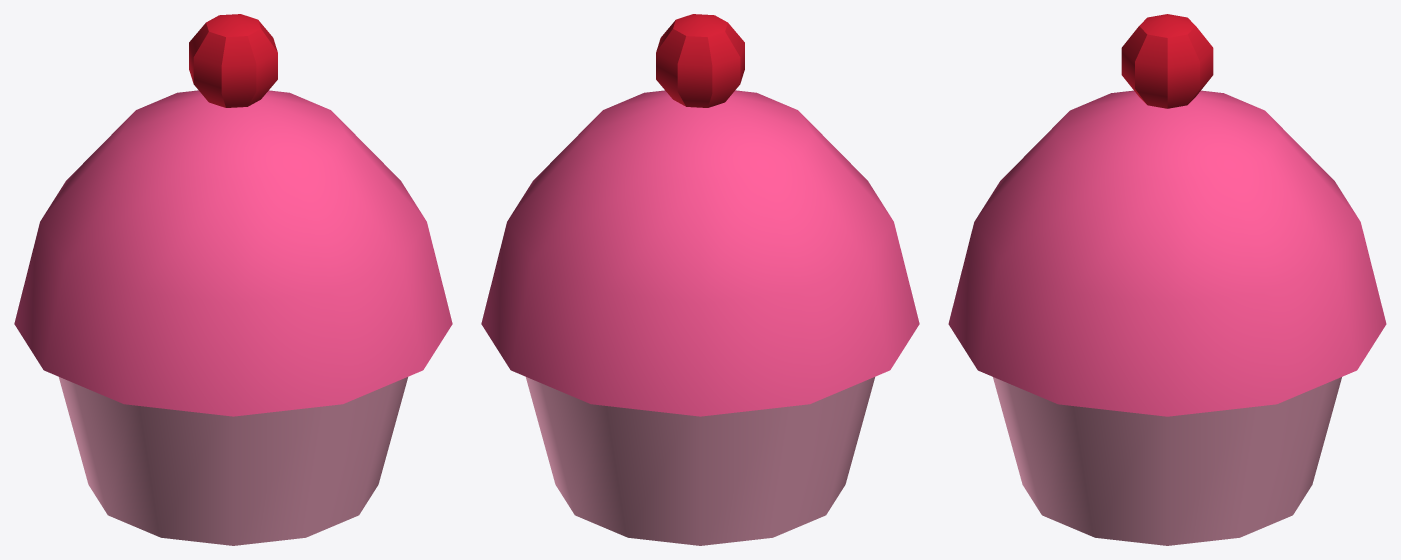
File: RailCandy.fbx
The picture shows the model from 3 angles, left to right: view 1: azimuth 30°, elevation 25°; view 2: azimuth 150°, elevation 25°; view 3: azimuth 270°, elevation 25°; orthographic projection.
Visible parts, largest first — view 1: RailCandy; view 2: RailCandy; view 3: RailCandy.
Boxes of the visible parts, x1=… form: RailCandy: x1=14, y1=14, x2=452, y2=545; RailCandy: x1=481, y1=14, x2=919, y2=545; RailCandy: x1=948, y1=14, x2=1386, y2=545.
Size of the model in its own units: 136 by 160 by 136.
